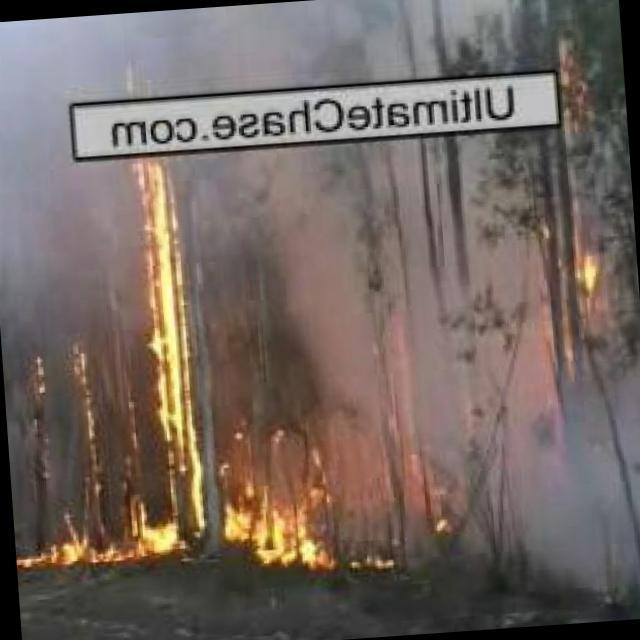Fire: (13, 482, 330, 584), (134, 167, 181, 484), (546, 47, 594, 136), (72, 351, 104, 456), (422, 479, 464, 542), (572, 236, 610, 296), (26, 354, 53, 396)
